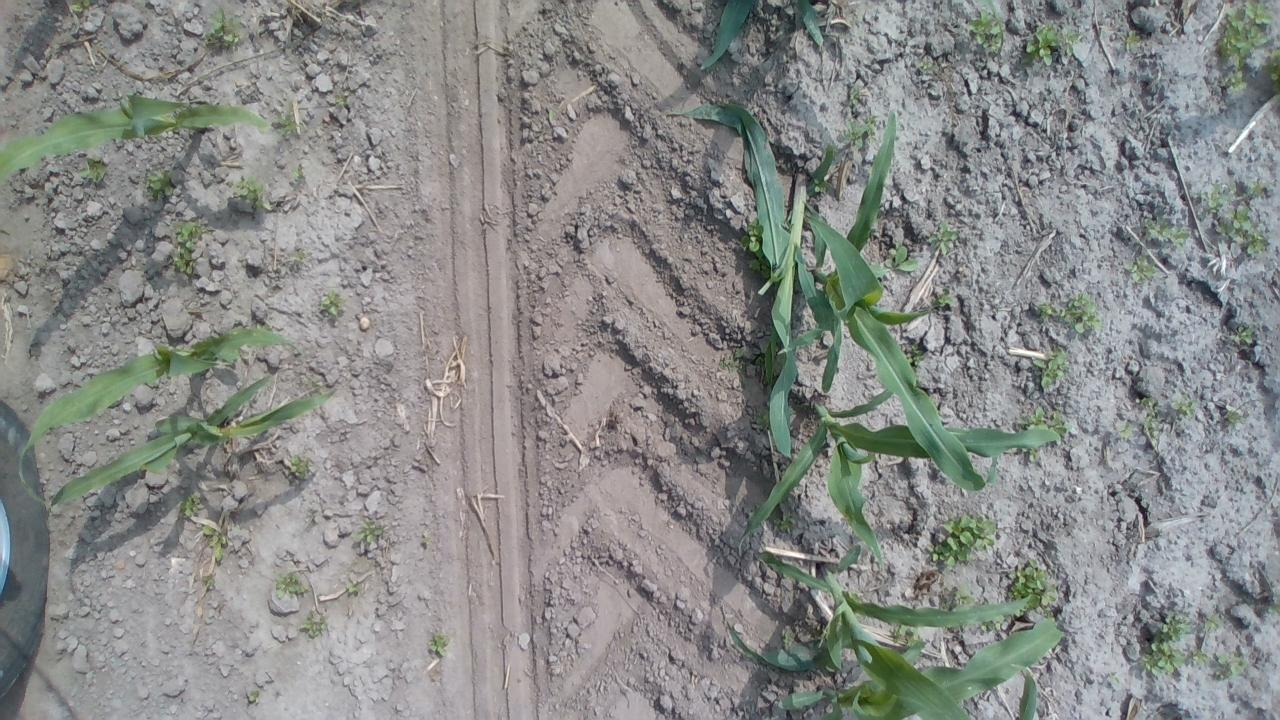Maize: (778, 109, 998, 508), (659, 100, 878, 460), (736, 386, 1062, 565), (16, 342, 340, 512), (732, 552, 1038, 720), (48, 375, 342, 507), (767, 607, 1059, 720), (1, 86, 280, 192), (693, 0, 831, 81)
Weeds: (1214, 0, 1274, 69), (930, 510, 1000, 568), (1136, 611, 1194, 678), (1005, 556, 1061, 616), (1216, 200, 1270, 254), (1036, 292, 1104, 334), (1021, 21, 1080, 66), (168, 219, 204, 277), (967, 4, 1006, 56), (202, 7, 246, 49), (1032, 346, 1070, 392), (232, 174, 274, 212), (1014, 405, 1068, 433), (742, 218, 770, 272), (1142, 216, 1190, 247), (841, 114, 878, 150), (891, 621, 925, 660), (883, 240, 918, 276), (202, 524, 230, 564), (350, 518, 387, 548), (1137, 396, 1162, 440), (929, 220, 960, 254), (1124, 255, 1158, 286), (144, 168, 177, 199), (1215, 650, 1249, 679), (78, 154, 110, 184), (274, 570, 308, 598), (1202, 186, 1230, 216), (318, 288, 344, 320), (178, 491, 206, 520), (1261, 46, 1277, 92), (300, 612, 328, 638), (902, 343, 928, 370), (1222, 68, 1248, 94), (949, 584, 975, 610), (290, 450, 314, 478), (427, 631, 451, 659), (772, 509, 797, 534), (719, 348, 745, 372), (1230, 323, 1256, 347), (275, 114, 297, 142), (1242, 180, 1268, 200), (1203, 610, 1224, 634), (1172, 396, 1196, 417), (779, 627, 799, 652), (980, 616, 1007, 634), (1123, 30, 1144, 53), (934, 286, 954, 310), (1188, 646, 1210, 666), (845, 85, 863, 108), (304, 378, 326, 395), (1018, 446, 1040, 463), (812, 175, 831, 194), (1226, 409, 1246, 427), (754, 410, 772, 430), (291, 160, 306, 182), (1116, 422, 1134, 439), (332, 89, 349, 107), (916, 57, 935, 73), (288, 246, 306, 262), (71, 0, 89, 15), (201, 572, 216, 588), (344, 581, 359, 595), (420, 531, 432, 546), (248, 690, 262, 702), (1107, 671, 1119, 684)
